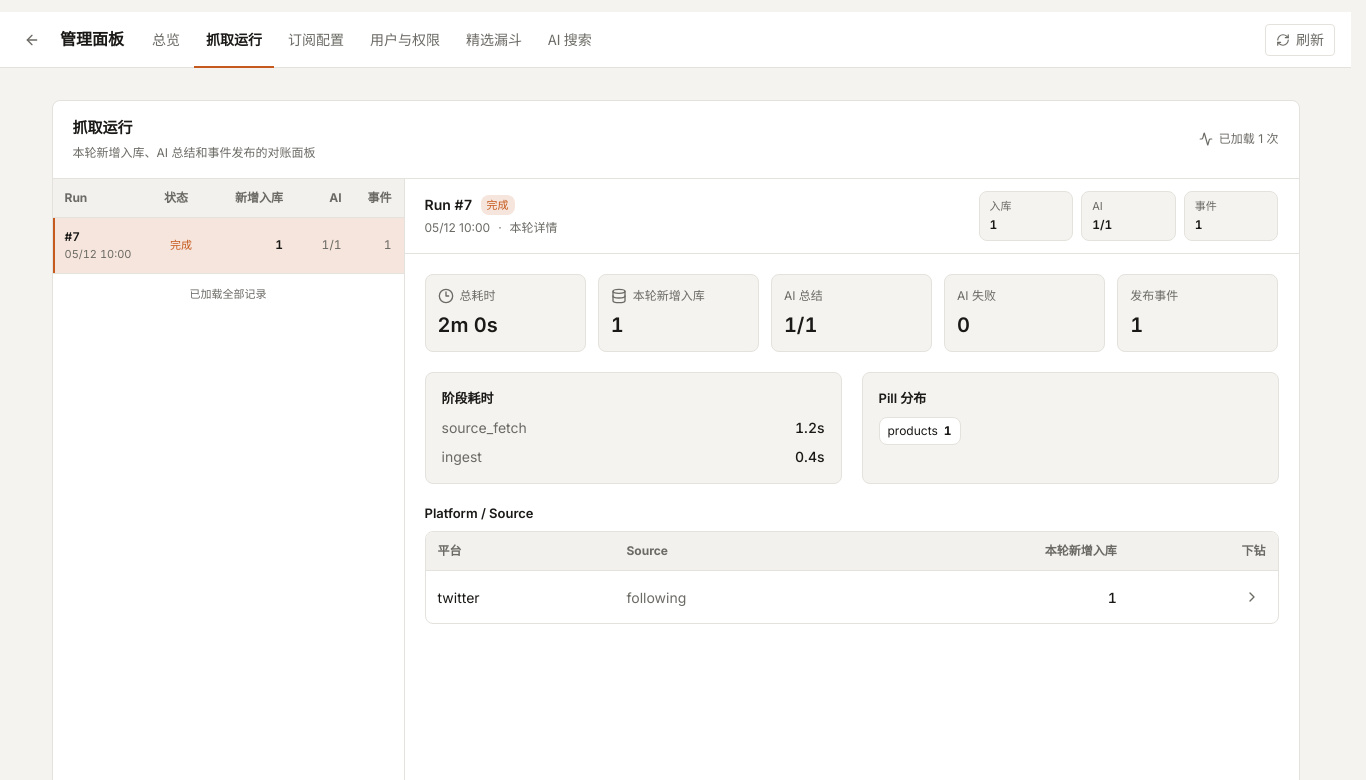
Test case: AdminPage fetch runs › shows fetch-run source drilldown and links titles to item detail
The width and height of the screenshot is (1366, 780).
Expected: the heading "抓取运行" is shown, [72,118,132,137]
Expected: the text "#7" is shown, [64,229,80,244]
Click the button titled "查看标题" at [1252, 597], box [1238,583,1266,611]
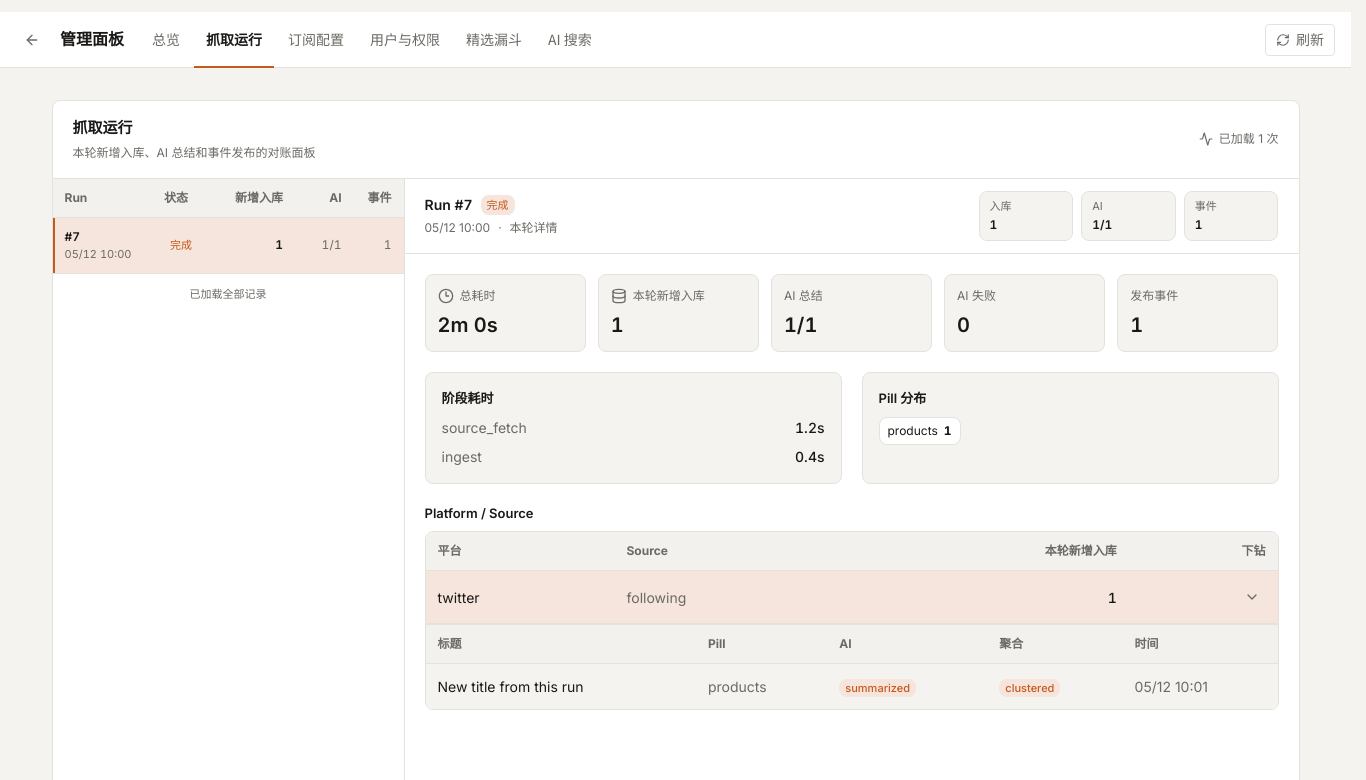
Now the text "summarized" is shown, box [839,679,916,697]
Now the text "clustered" is shown, box [999,679,1060,697]
